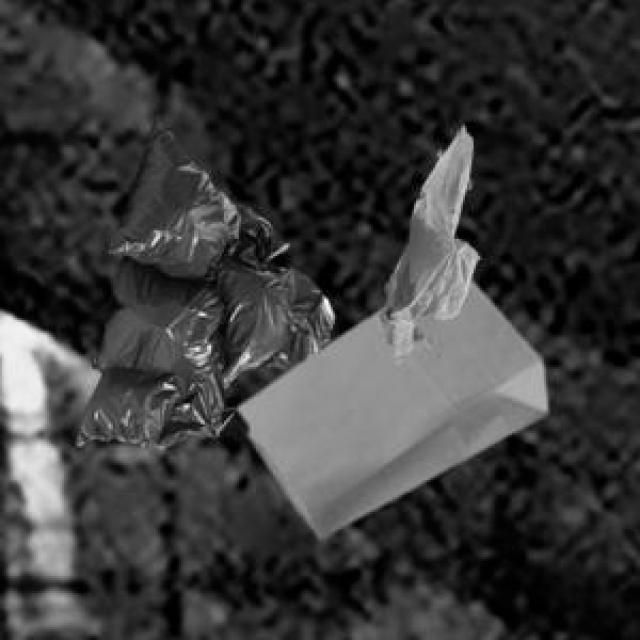miscellaneous trash: (73, 115, 331, 444)
paper: (235, 275, 542, 533)
